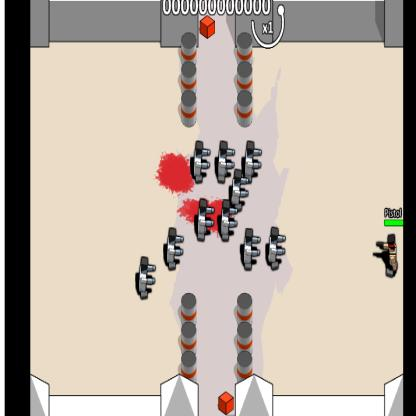agent: (383, 234, 399, 278)
jombie: (245, 141, 258, 184), (192, 140, 205, 183), (268, 227, 280, 272), (197, 196, 209, 241), (243, 228, 255, 272), (166, 228, 178, 272), (138, 256, 150, 298), (221, 198, 231, 242), (232, 169, 242, 211), (218, 140, 228, 182)
